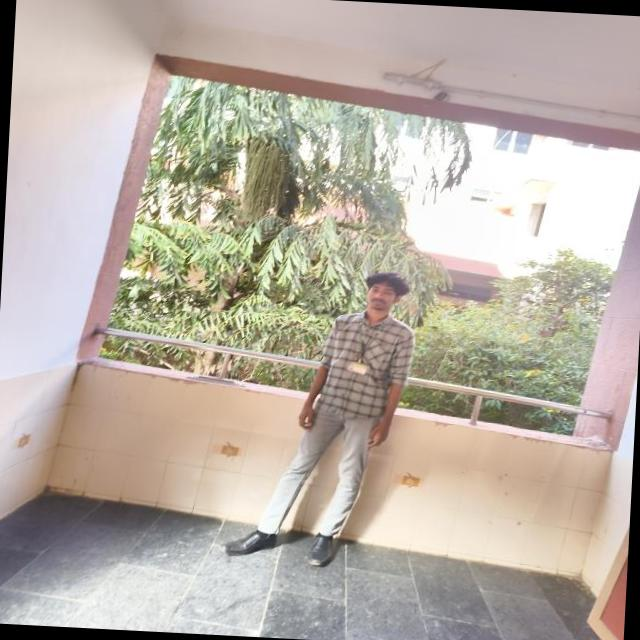id_card: (351, 318, 376, 380)
